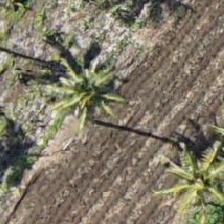coconut_tree: (31, 39, 121, 129), (167, 131, 223, 221)
